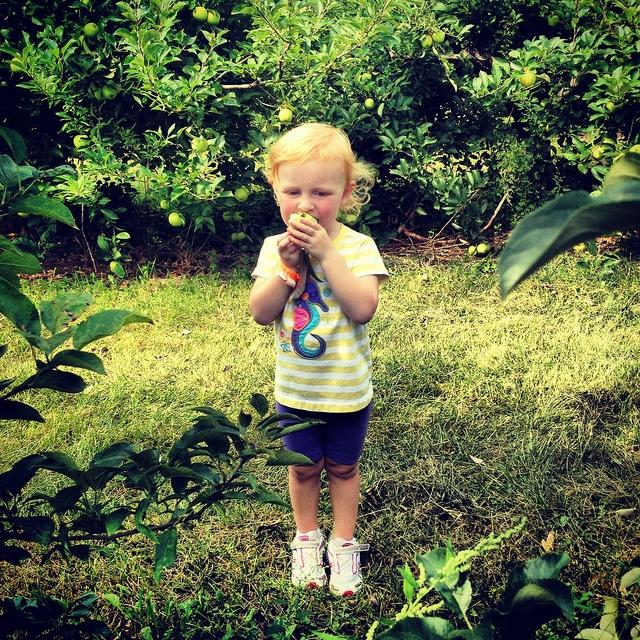apple: (288, 212, 318, 231), (520, 71, 536, 87), (84, 22, 99, 38), (193, 6, 208, 22), (101, 85, 118, 99), (10, 58, 24, 74), (192, 138, 208, 152), (207, 12, 221, 27), (74, 135, 90, 148), (234, 188, 248, 202), (168, 212, 182, 226), (279, 109, 293, 122), (432, 30, 445, 43), (592, 146, 604, 160), (420, 35, 432, 48), (232, 211, 244, 222), (477, 244, 488, 255), (574, 242, 586, 252), (364, 98, 374, 109), (222, 211, 232, 222), (589, 190, 602, 198), (629, 144, 640, 153), (110, 261, 118, 273), (362, 72, 372, 80), (160, 200, 168, 209), (468, 246, 475, 256), (357, 74, 362, 82)
